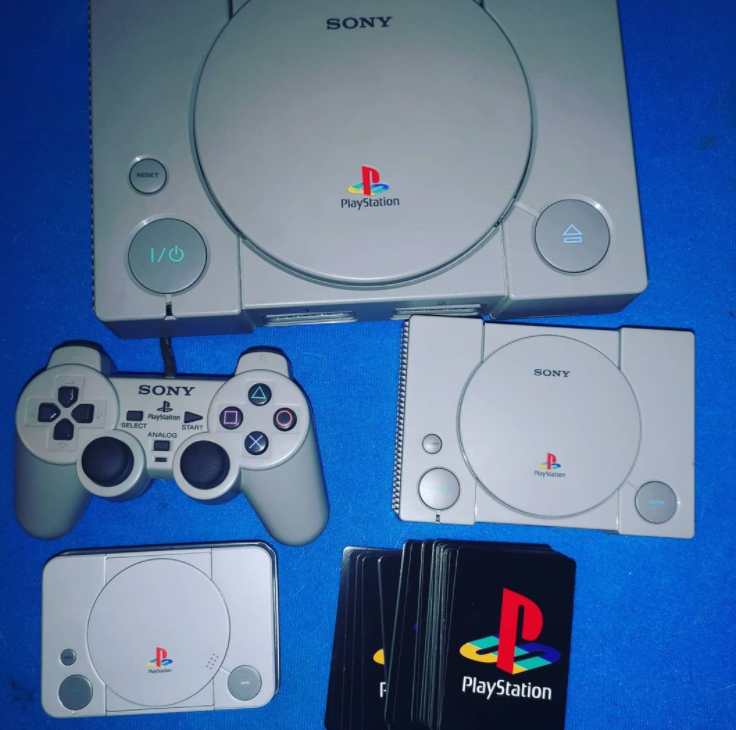gamingconsole: (16, 343, 331, 544)
